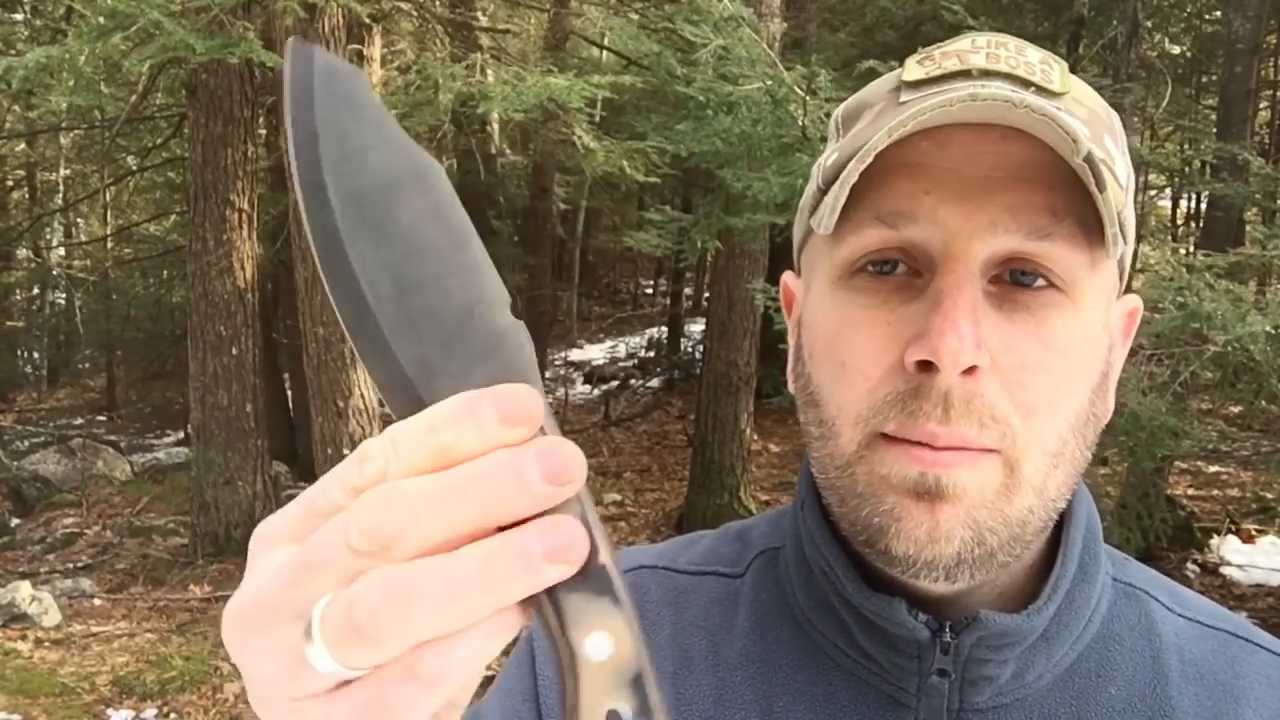knife: (202, 21, 639, 621)
